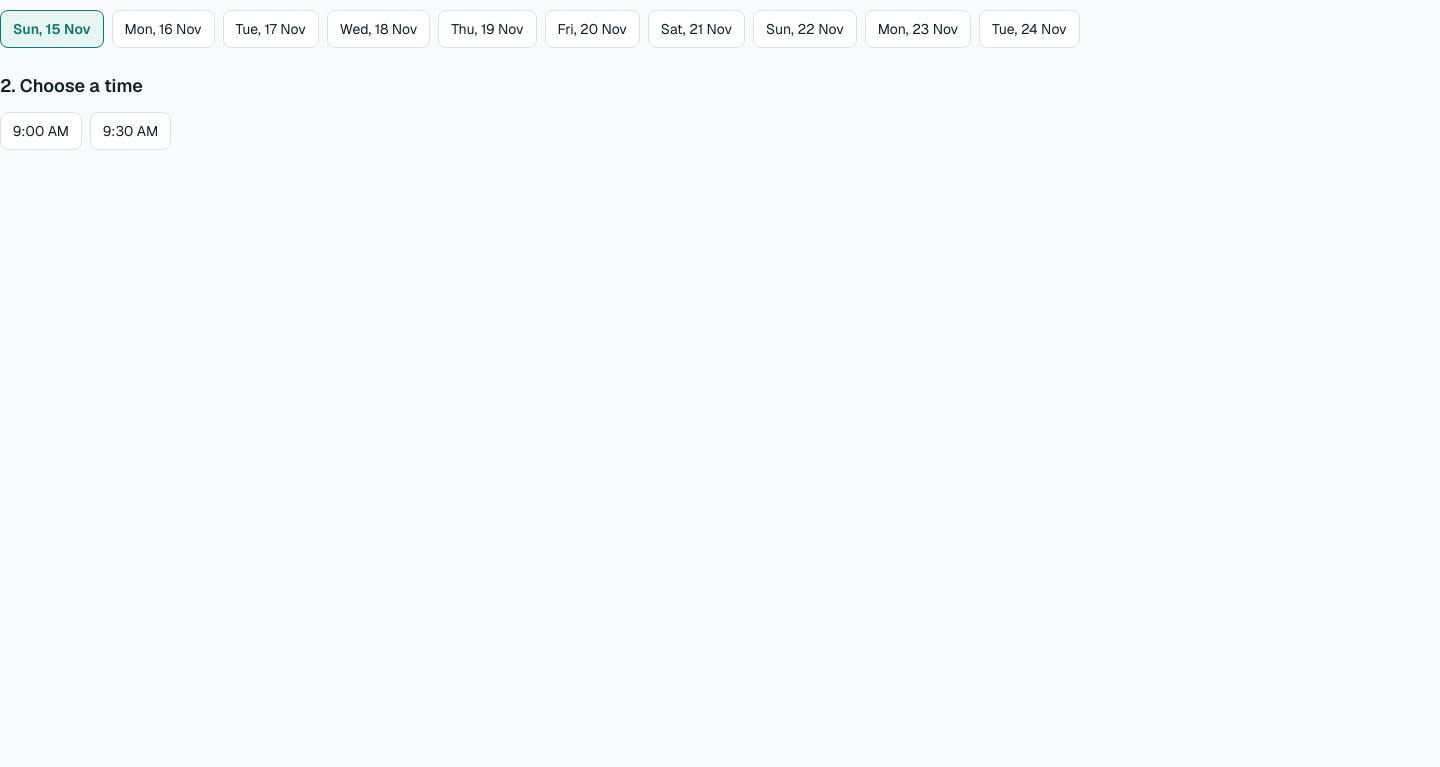
Test: BookingFlow › reloads slots and clears the selection when the slot was just taken
Click the button "9:00 AM" at (41, 131), box left=0, top=112, right=82, bottom=150
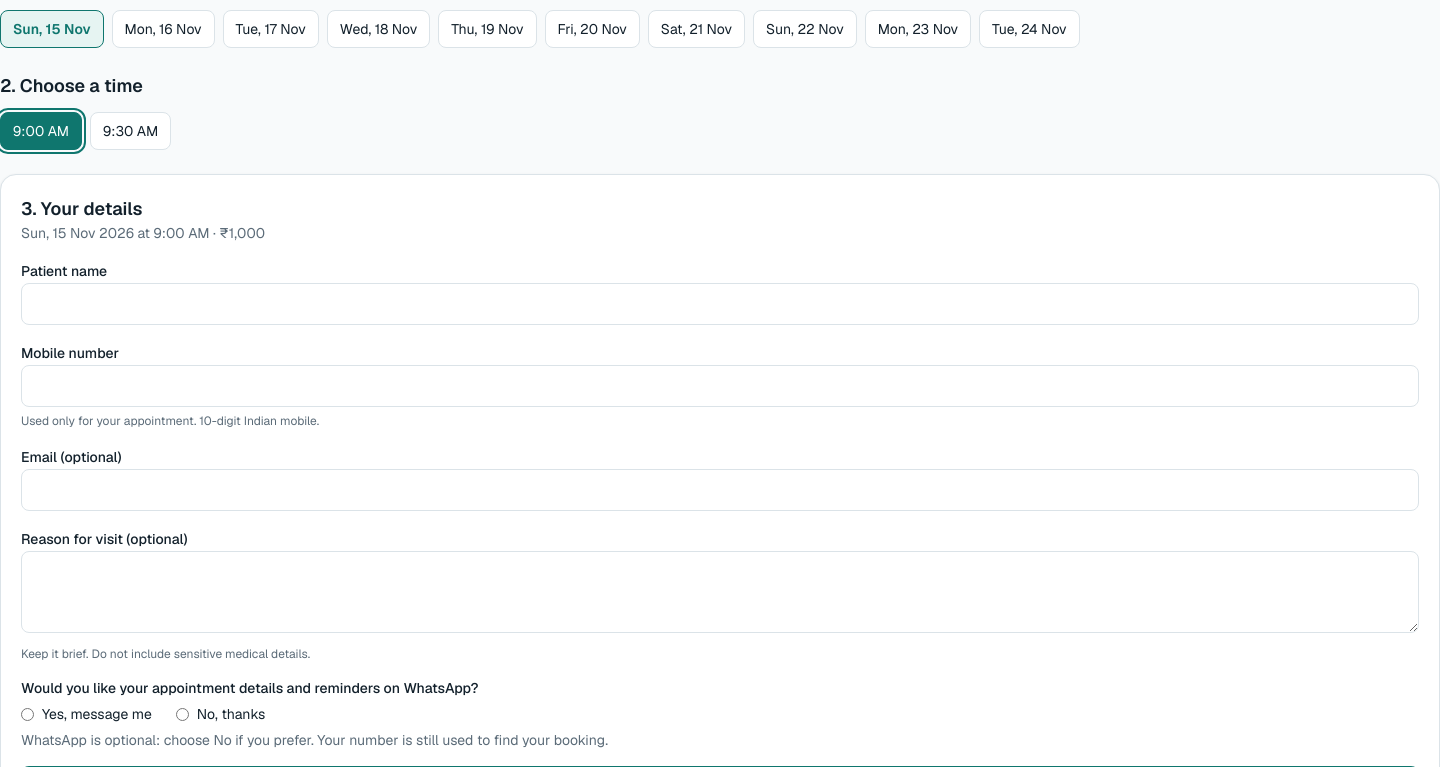
Type "Asha Rao" into the field labelled "Patient name" at (720, 304), box left=21, top=283, right=1419, bottom=325
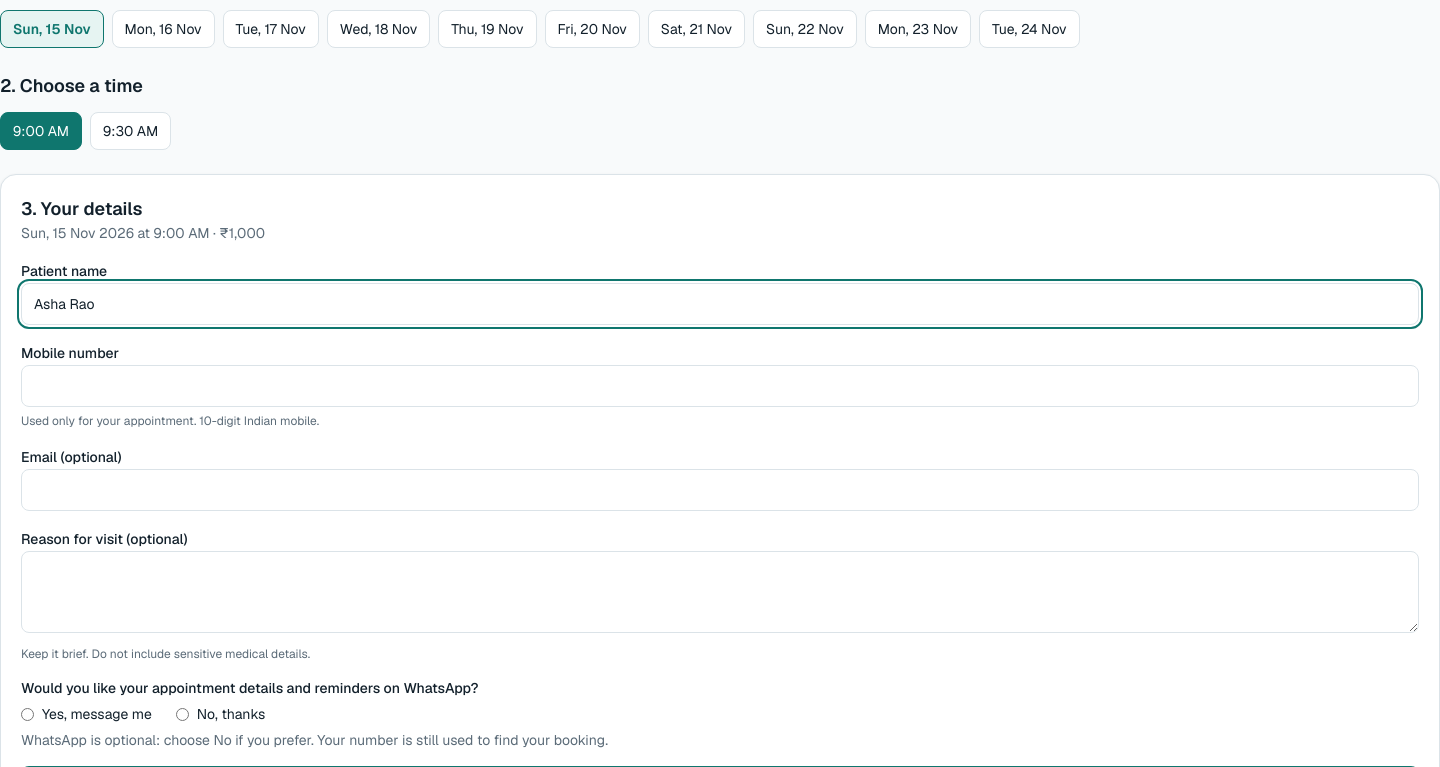
Type "9876543210" into the field labelled "Mobile number" at (720, 386), box left=21, top=365, right=1419, bottom=407
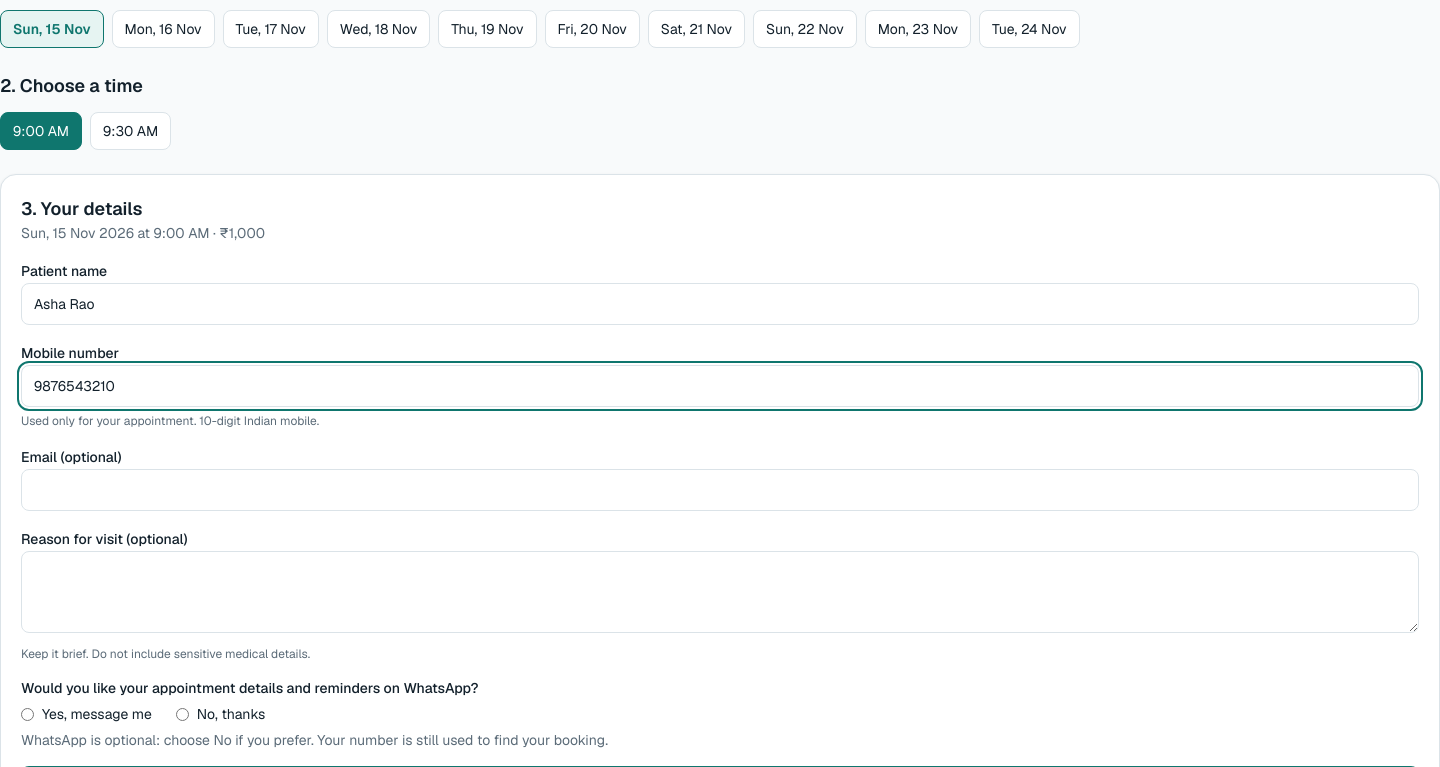
Click the radio button labelled "No, thanks" at (182, 714), box left=176, top=708, right=189, bottom=720
(page scrolled)
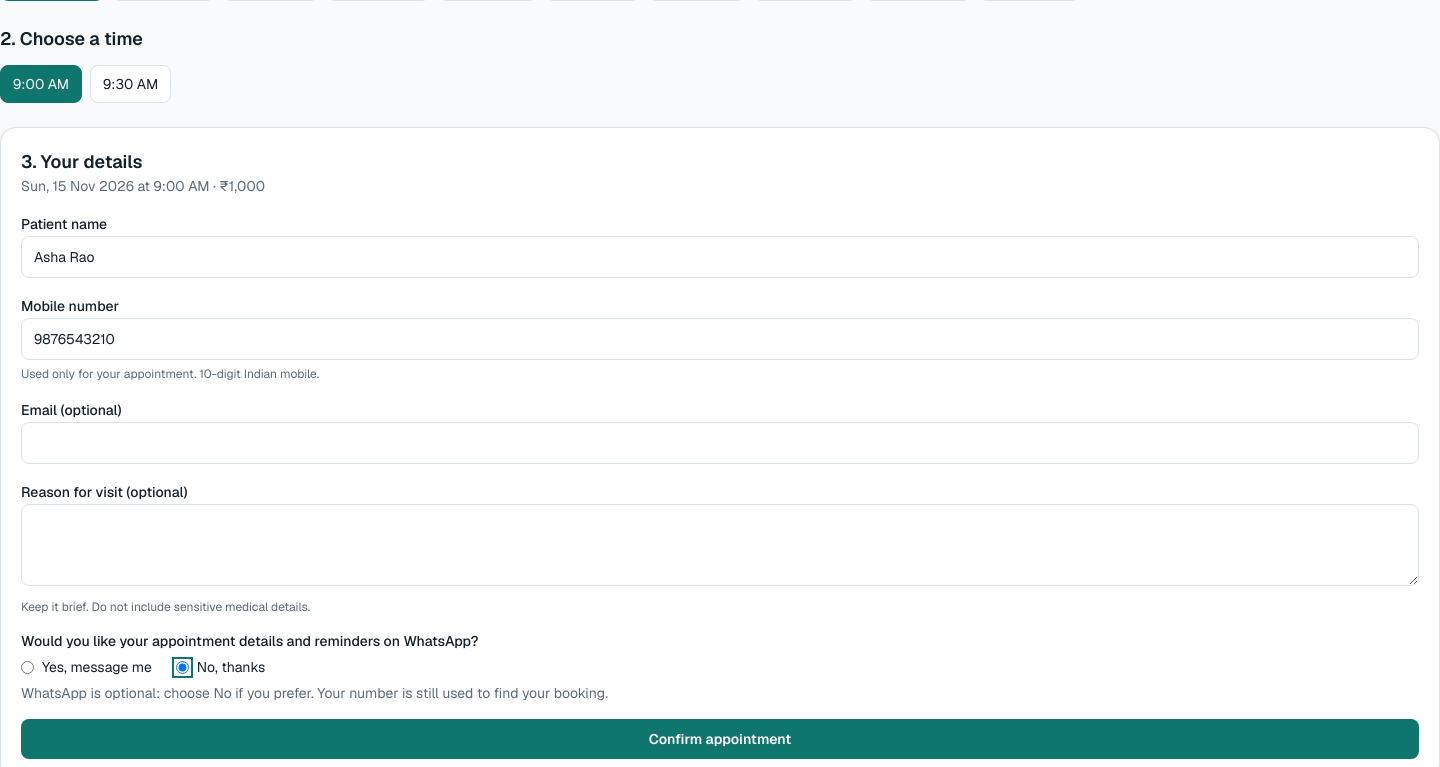
Click the button "Confirm appointment" at (720, 739), box left=21, top=719, right=1419, bottom=759
(page scrolled)
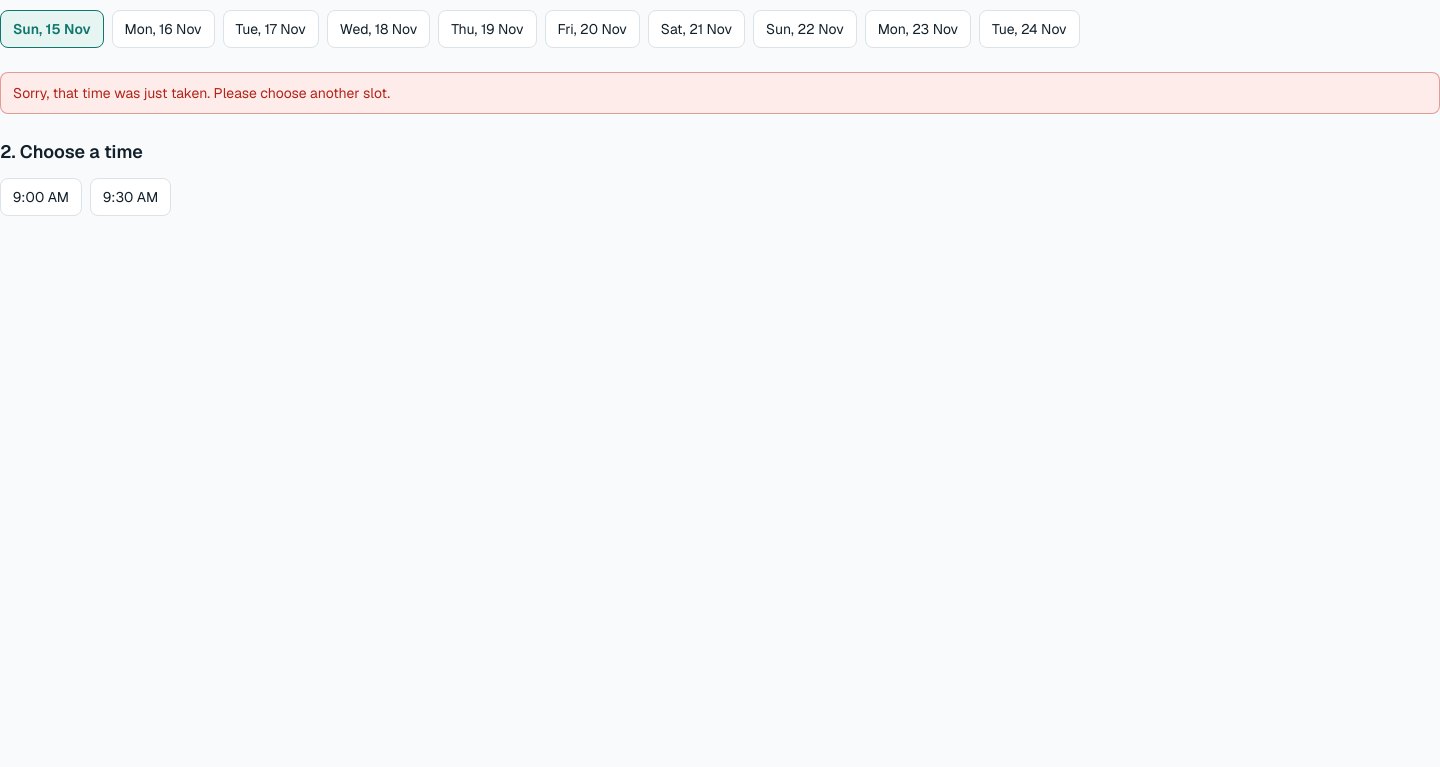
Now the text "Sorry, that time was just taken. Please choose another slot." is shown, box left=0, top=72, right=1439, bottom=114
